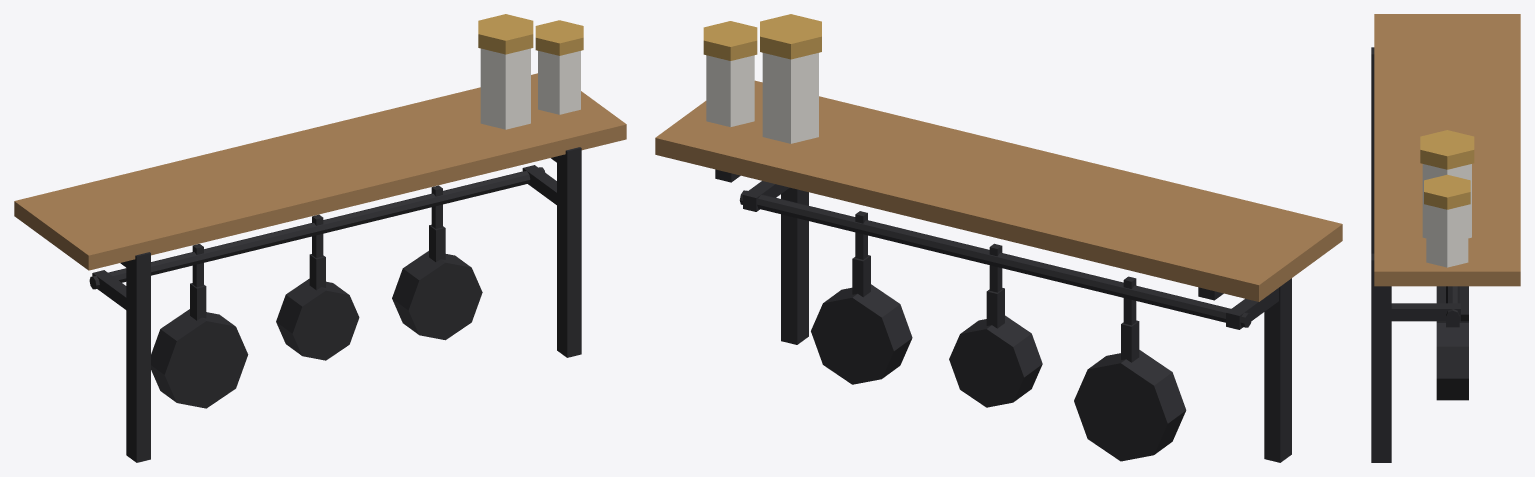
File: FN_Shelf_Kitchen.glb
The picture shows the model from 3 angles, left to right: view 1: azimuth 30°, elevation 25°; view 2: azimuth 150°, elevation 25°; view 3: azimuth 270°, elevation 25°; orthographic projection. The views are drawn at different scales.
Visible parts, largest first — view 1: FN_Shelf_Kitchen; view 2: FN_Shelf_Kitchen; view 3: FN_Shelf_Kitchen.
Part boxes in pixels (x1,y1,x2,y2): FN_Shelf_Kitchen: (14,14,626,462); FN_Shelf_Kitchen: (655,14,1342,462); FN_Shelf_Kitchen: (1371,14,1520,462).
Size of the model in its own units: 0.9 by 0.492 by 0.22.
Materials: 1 (1 with a texture image).
